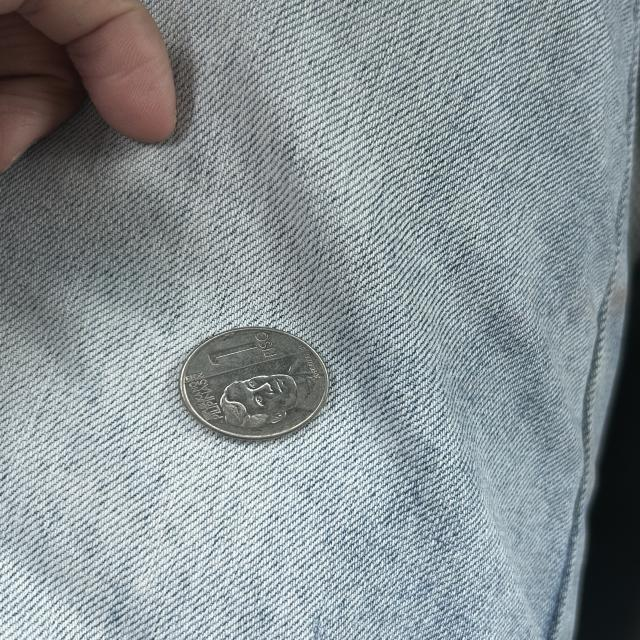1_New_Front: (198, 331, 278, 362)
